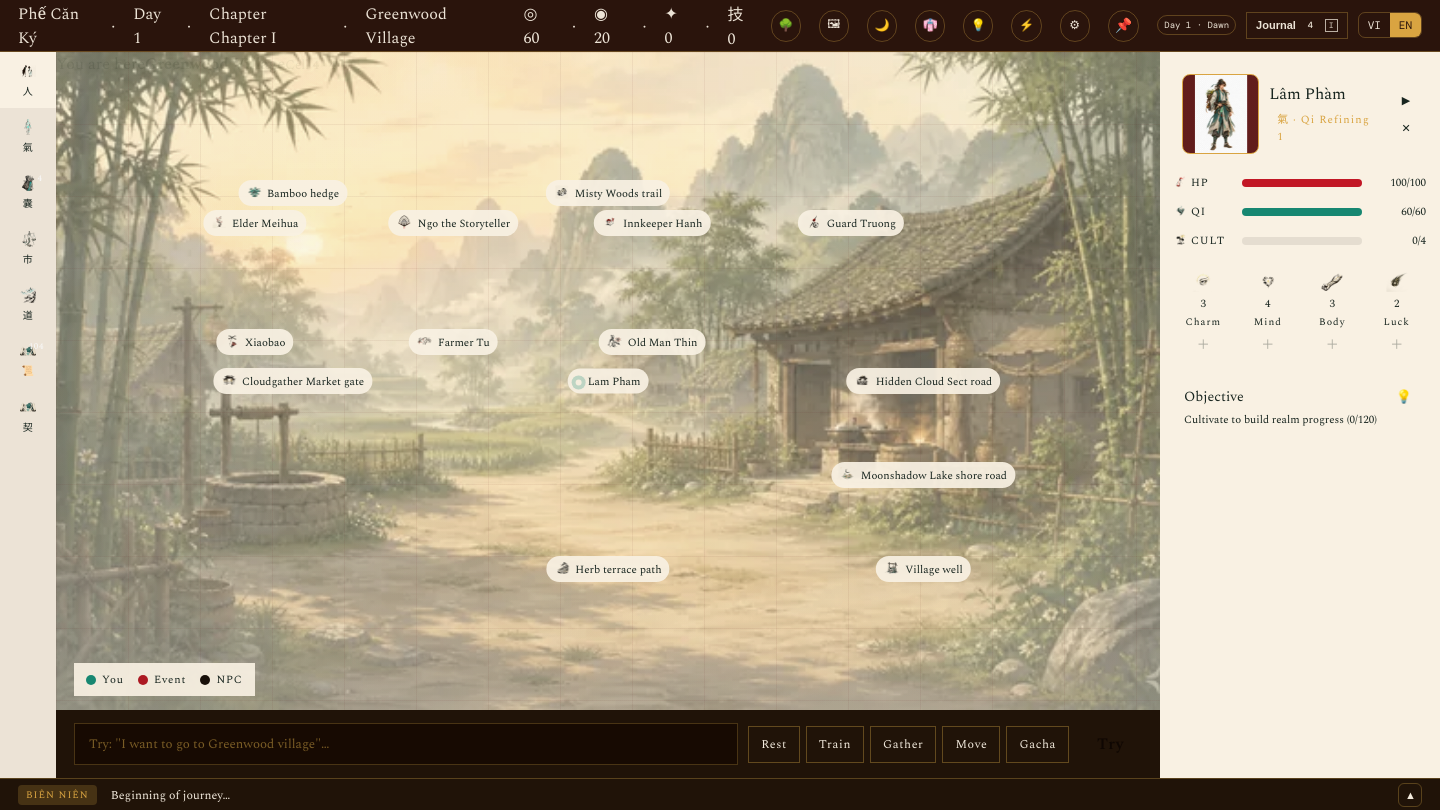
Scenario: T10: opening the journal marks the world behind it inert › does not inert the open drawer itself
Step 1. Click the button with aria-label "Open Journey journal" → (1297, 26), box [1246,12,1348,39]
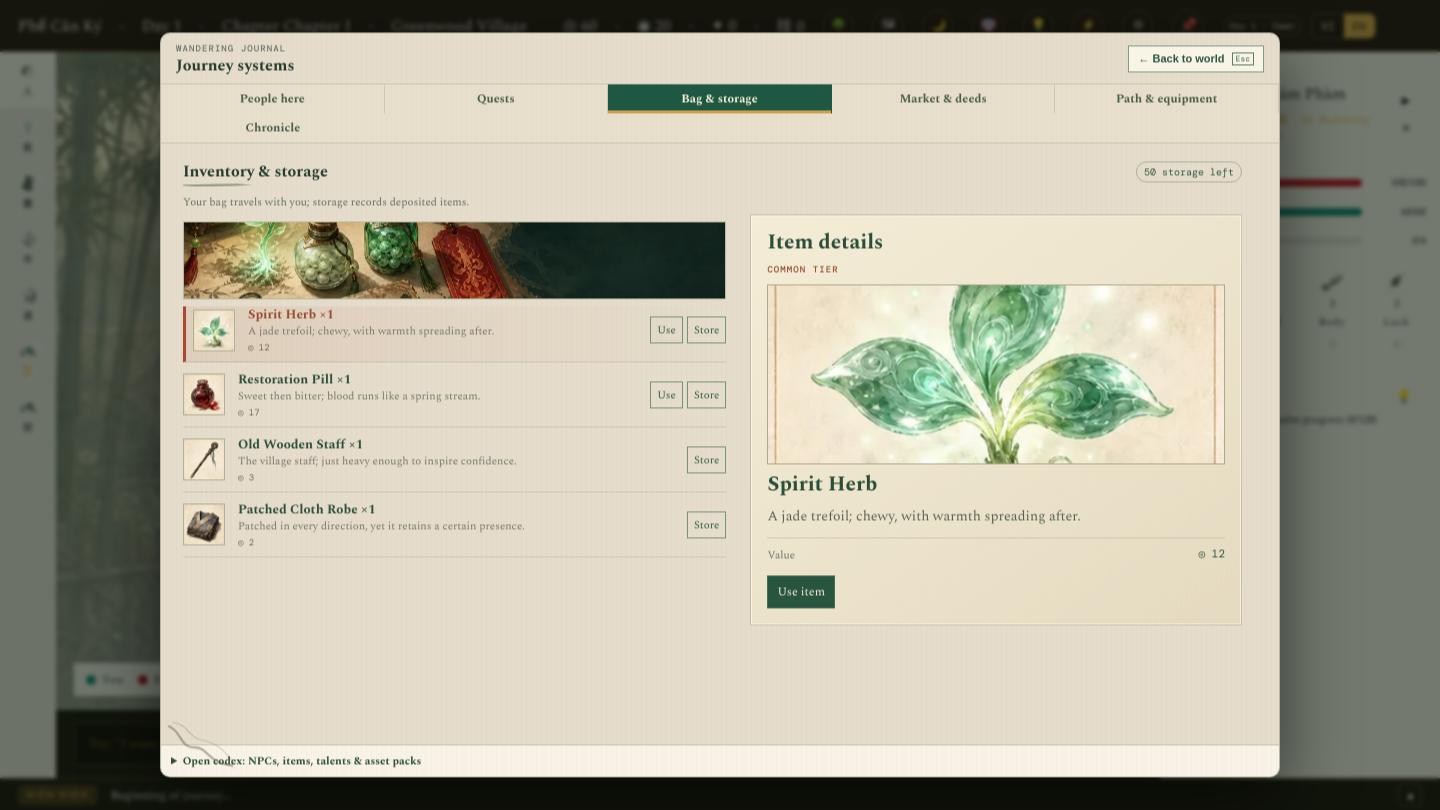
Now the dialog with id "journal-screen" is shown
